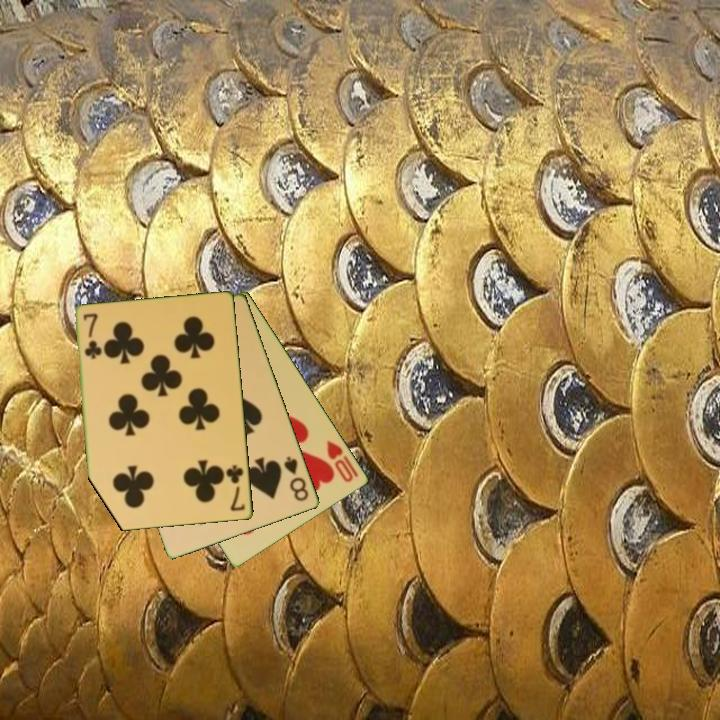10h: (323, 437, 362, 485)
7c: (223, 462, 248, 514), (80, 310, 103, 362)
8s: (281, 453, 312, 504)
